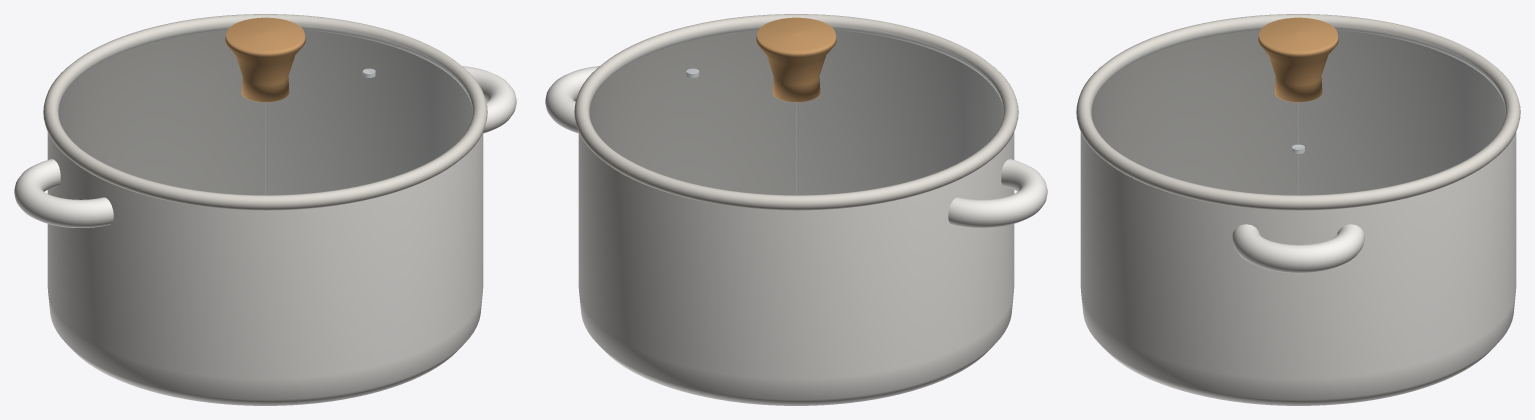
Rendered from bien.glb.
3 renders of one model, left to right at view 1: azimuth 30°, elevation 25°; view 2: azimuth 150°, elevation 25°; view 3: azimuth 270°, elevation 25°, orthographic.
Parts seen in each view (by area): view 1: Shell, LidGlass, Interior, LidRim, Handle (×2), Knob; view 2: Shell, LidGlass, Interior, LidRim, Handle (×2), Knob; view 3: Shell, LidGlass, Interior, LidRim, Knob, Handle.
Part boxes in pixels (left/top/right/bottom): Shell: left=47, top=132, right=483, bottom=405; LidGlass: left=58, top=24, right=472, bottom=194; Interior: left=58, top=30, right=472, bottom=195; LidRim: left=43, top=14, right=487, bottom=210; Handle (×2): left=14, top=66, right=516, bottom=227; Knob: left=225, top=17, right=305, bottom=102; Shell: left=578, top=132, right=1014, bottom=405; LidGlass: left=589, top=24, right=1003, bottom=194; Interior: left=589, top=30, right=1003, bottom=195; LidRim: left=574, top=14, right=1018, bottom=210; Handle (×2): left=545, top=66, right=1047, bottom=227; Knob: left=756, top=17, right=836, bottom=102; Shell: left=1080, top=132, right=1516, bottom=405; LidGlass: left=1091, top=24, right=1505, bottom=194; Interior: left=1091, top=30, right=1505, bottom=195; LidRim: left=1076, top=14, right=1520, bottom=210; Knob: left=1258, top=17, right=1338, bottom=102; Handle: left=1232, top=224, right=1364, bottom=273.
Bounding box in the file's own units: 0.257 × 0.147 × 0.204.
